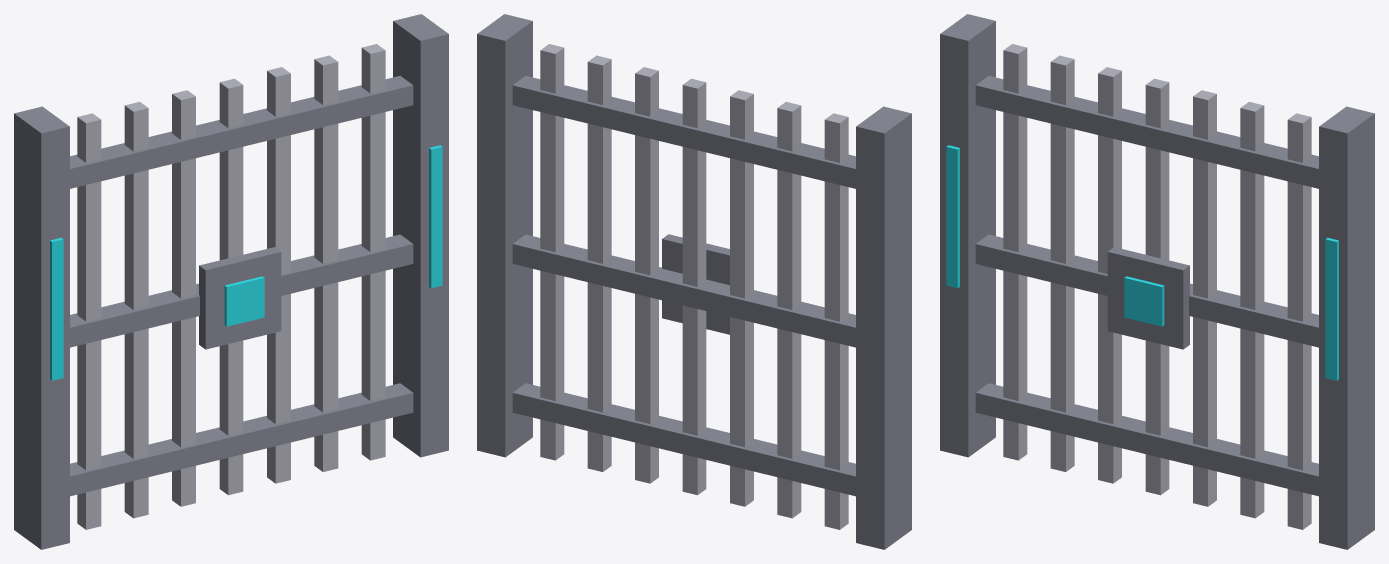
Rendered from archive_gate.glb.
3 renders of one model, left to right at view 1: azimuth 30°, elevation 25°; view 2: azimuth 150°, elevation 25°; view 3: azimuth 330°, elevation 25°, orthographic.
Visible parts, largest first — view 1: post; view 2: post; view 3: post.
Part boxes in pixels (x1=…): post: x1=14, y1=14, x2=448, y2=549; post: x1=477, y1=14, x2=911, y2=549; post: x1=940, y1=14, x2=1374, y2=549.
Bounding box in the file's own units: 4.3 × 4.2 × 0.54.
